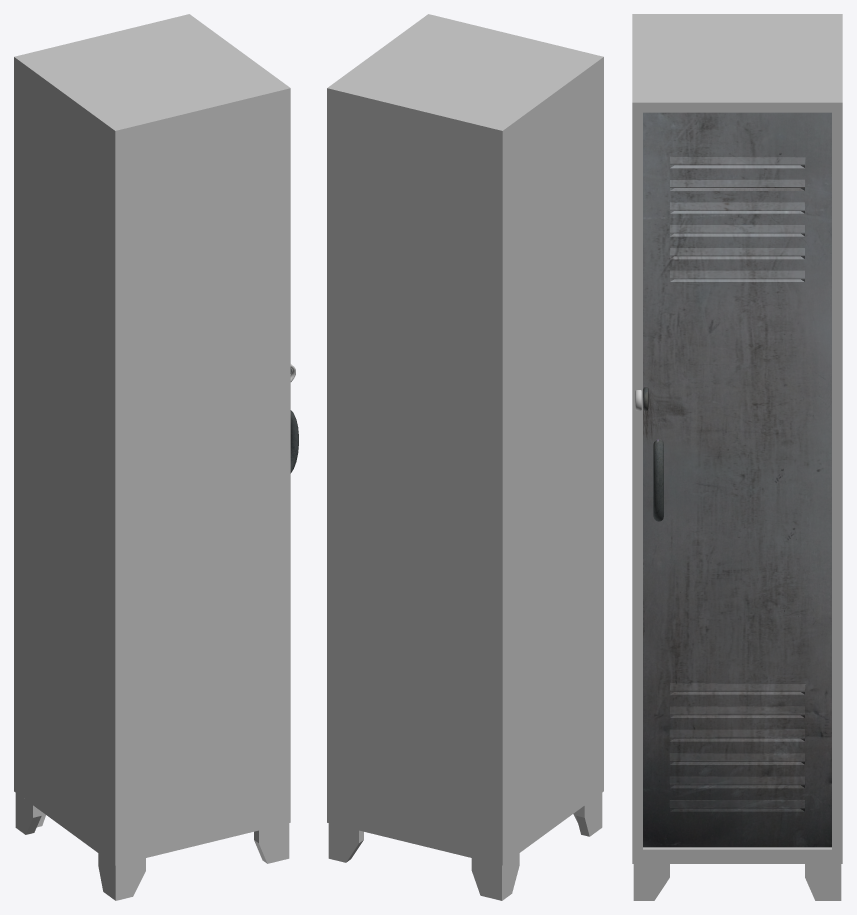
Rendered from locker.gltf.
3 views of the same model, side by side, from view 1: azimuth 30°, elevation 25°; view 2: azimuth 150°, elevation 25°; view 3: azimuth 270°, elevation 25° (orthographic). The views are drawn at different scales.
Visible parts, largest first — view 1: locker_body; view 2: locker_body; view 3: locker_door, locker_body.
Boxes of the visible parts, x1,y1,x2,y2 form: locker_body: (14,14,295,900); locker_body: (327,14,603,900); locker_door: (643,112,831,847); locker_body: (632,14,842,900).
Size of the model in its own units: 0.4459 by 1.68 by 0.4.
